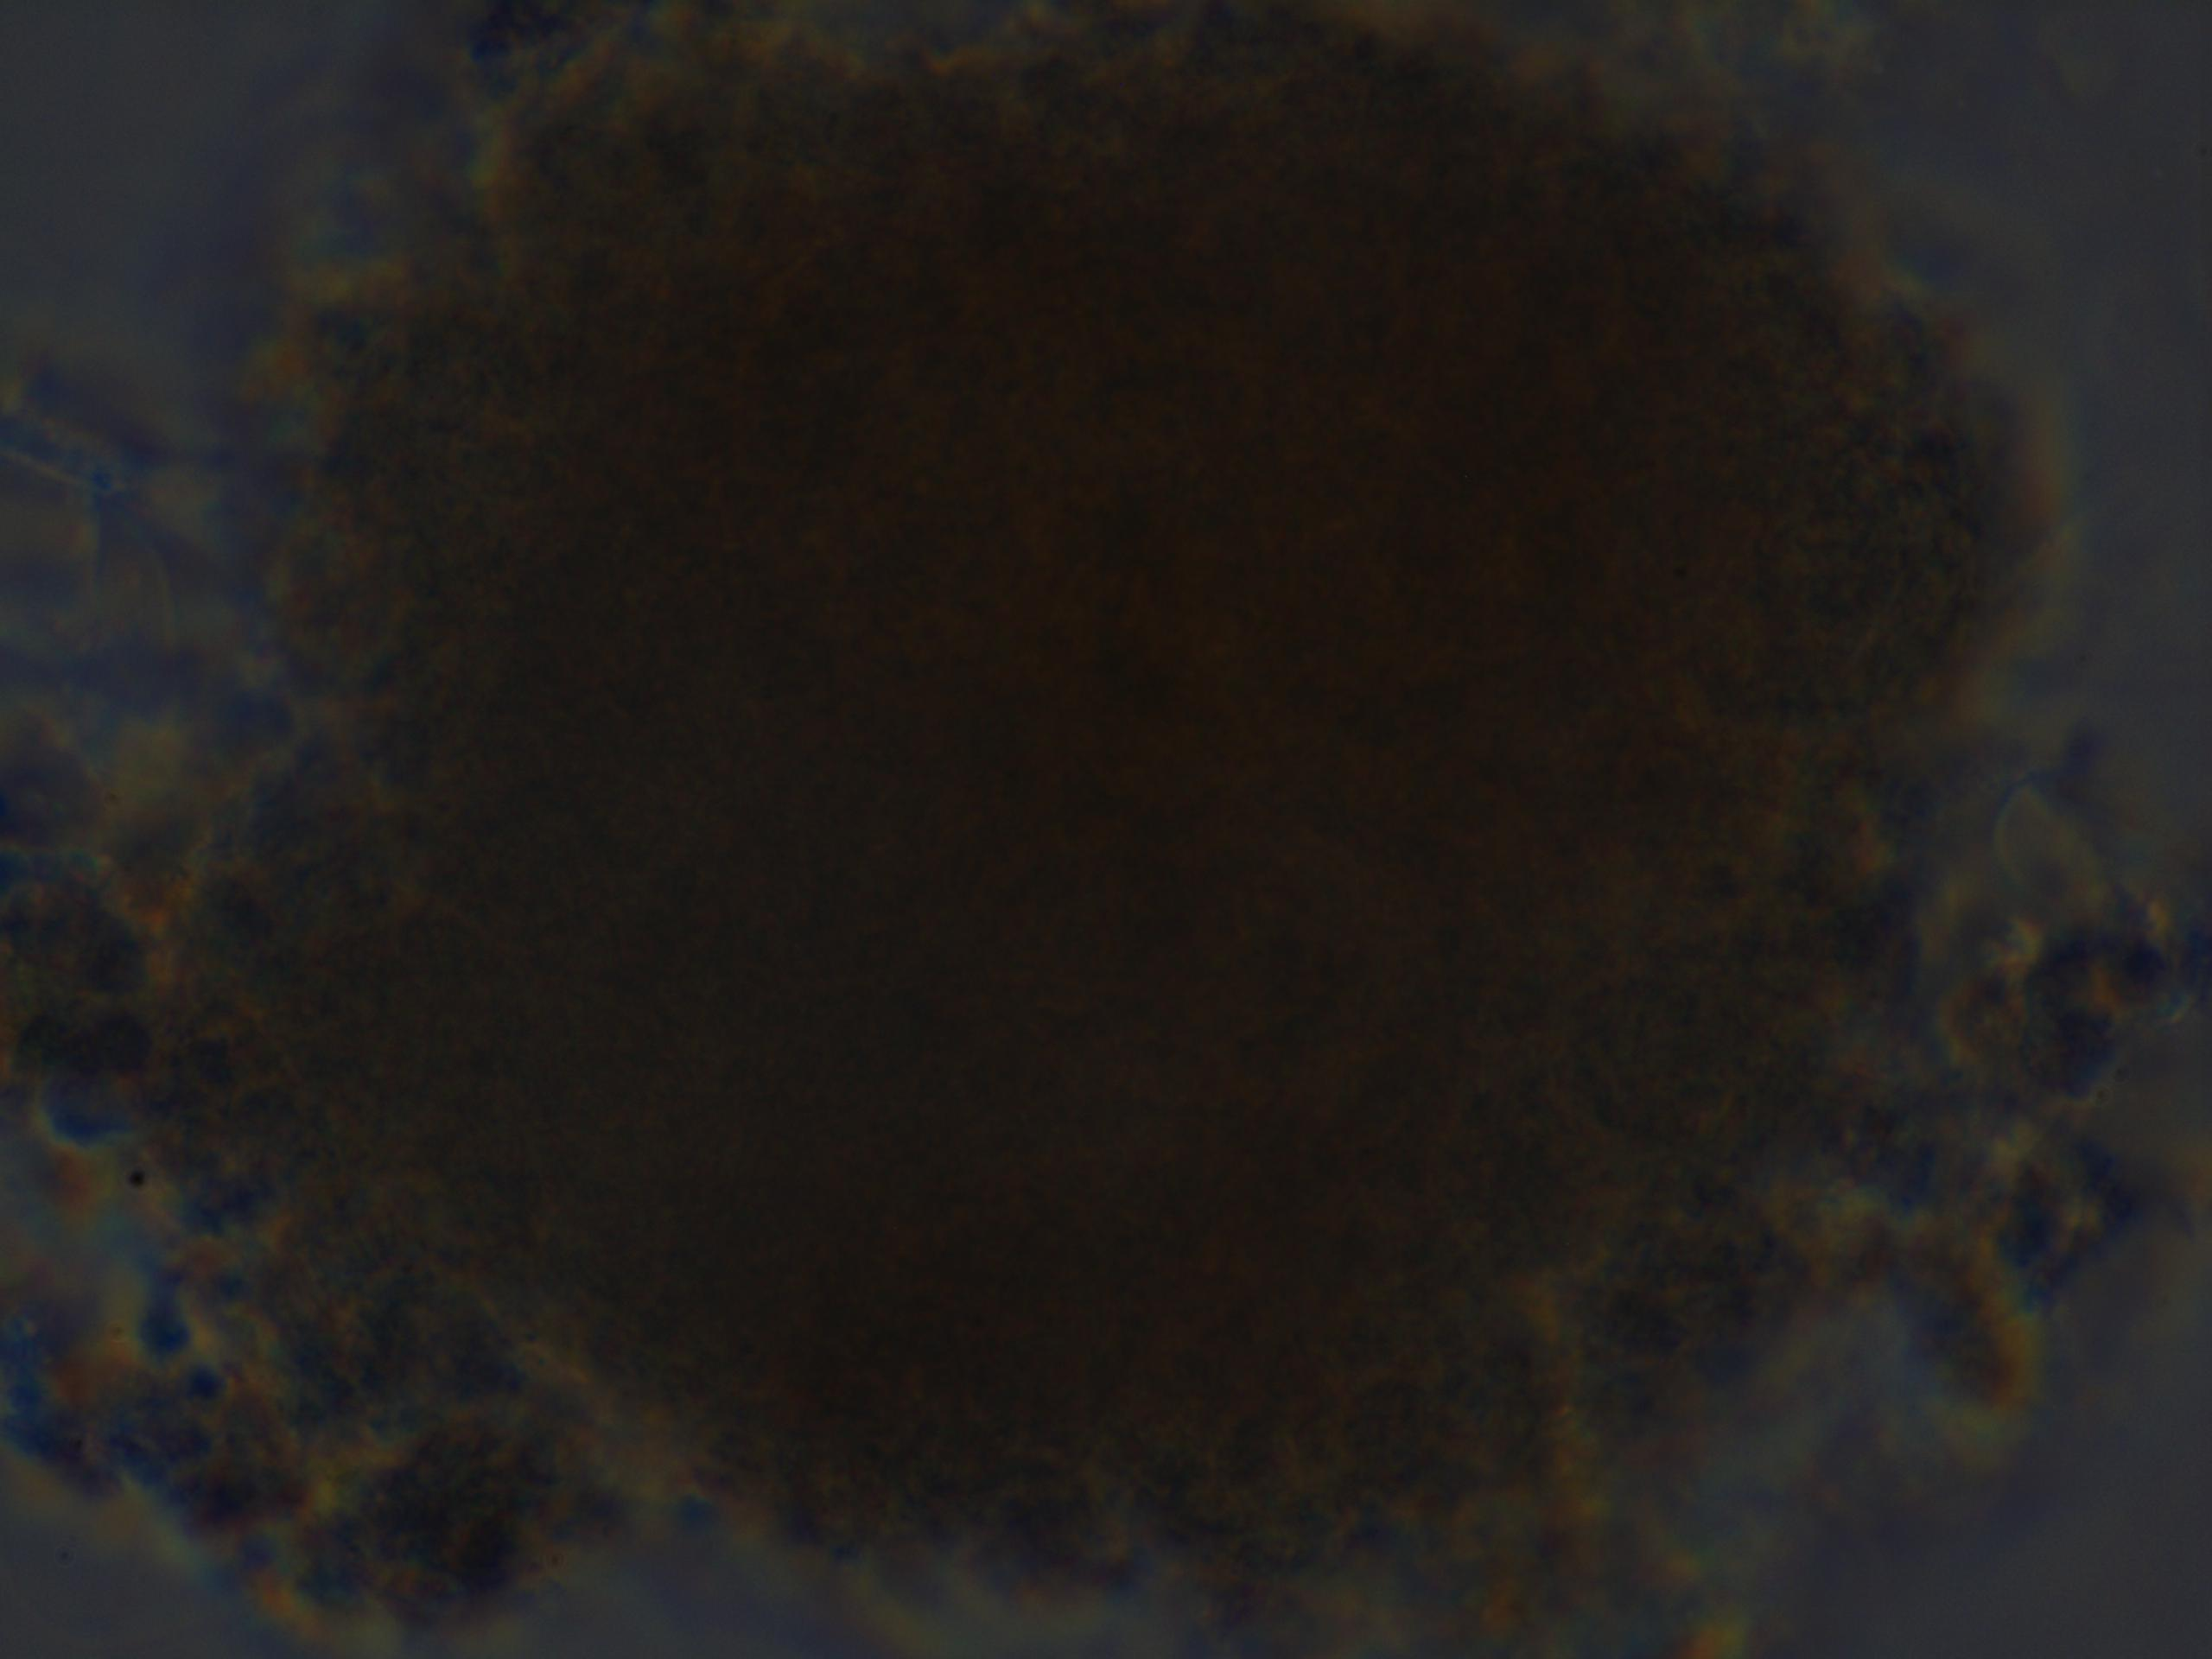spherical_floc: (75, 7, 2081, 1612)
